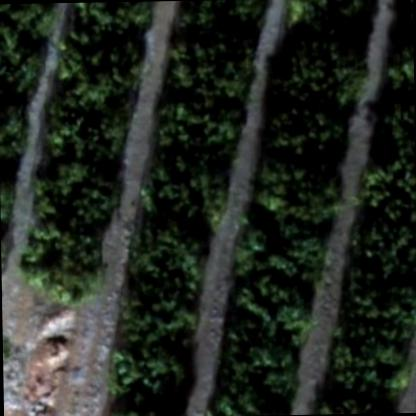Canopy-Citrus: (38, 66, 138, 156), (17, 219, 105, 307), (27, 152, 122, 233), (272, 25, 366, 106), (258, 89, 348, 168), (323, 338, 415, 413), (233, 216, 326, 288), (227, 274, 312, 348), (136, 160, 234, 224), (123, 232, 199, 314), (208, 348, 300, 414), (166, 37, 256, 103), (110, 313, 197, 381), (343, 267, 415, 346), (254, 161, 341, 226), (148, 98, 241, 158), (352, 138, 415, 222), (348, 211, 415, 281), (167, 0, 271, 43), (54, 2, 156, 40), (57, 32, 146, 74), (367, 72, 414, 150), (0, 2, 60, 56), (0, 45, 50, 109), (0, 101, 31, 166), (0, 169, 18, 233)
